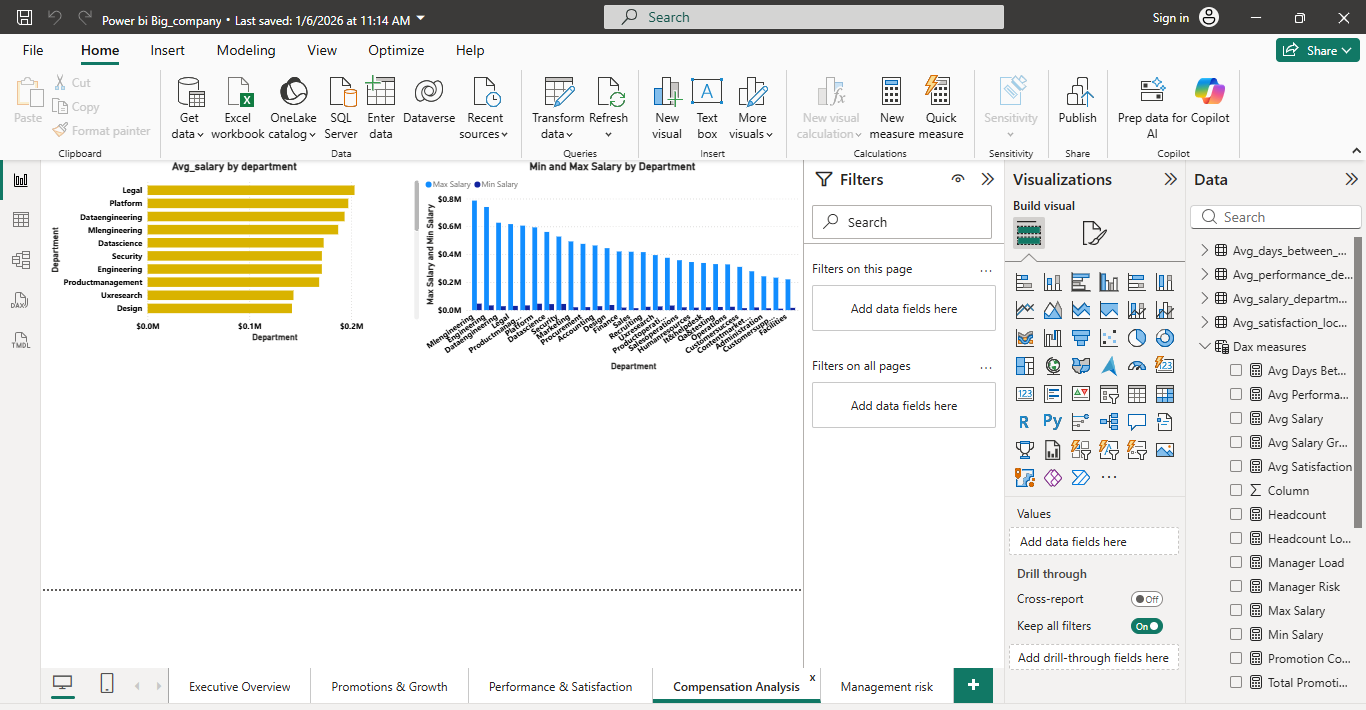

The dashboard page shown, as its layout file describes it:
{"tool":"powerbi","page":{"name":"Compensation Analysis","canvas":[1280,720],"ordinal":3},"visuals":[{"type":"clusteredBarChart","title":" Avg_salary by department ","fields":{"Category":["Avg_salary_department.Department"],"Y":["Dax measures.Avg Salary"]},"box":[10.1,0,629.9,310.8],"z":0},{"type":"lineClusteredColumnComboChart","title":"Min and Max Salary by Department","fields":{"Y":["Dax measures.Max Salary","Dax measures.Min Salary"],"Category":["Avg_salary_department.Department"]},"box":[640,0,640,359.5],"z":1}]}

Visuals, with their boxes on the page's 1280x720 design canvas (x1, y1, x2, y2). These are canvas units, not pixel positions in the 1366x710 screenshot, which may show the page scaled, cropped or inside an application window:
" Avg_salary by department " clusteredBarChart: 10,0,640,311
"Min and Max Salary by Department" lineClusteredColumnComboChart: 640,0,1280,360
